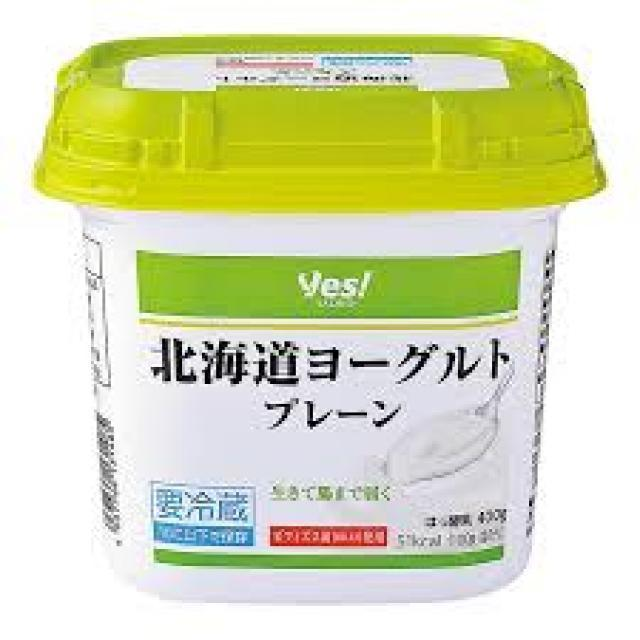Plastic: (36, 38, 604, 602)
